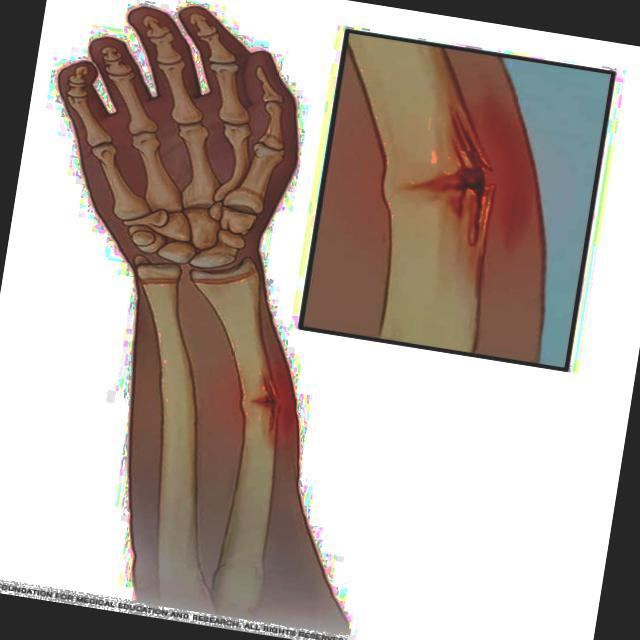GreenStick Fracture: (429, 113, 493, 256), (242, 361, 282, 437)
